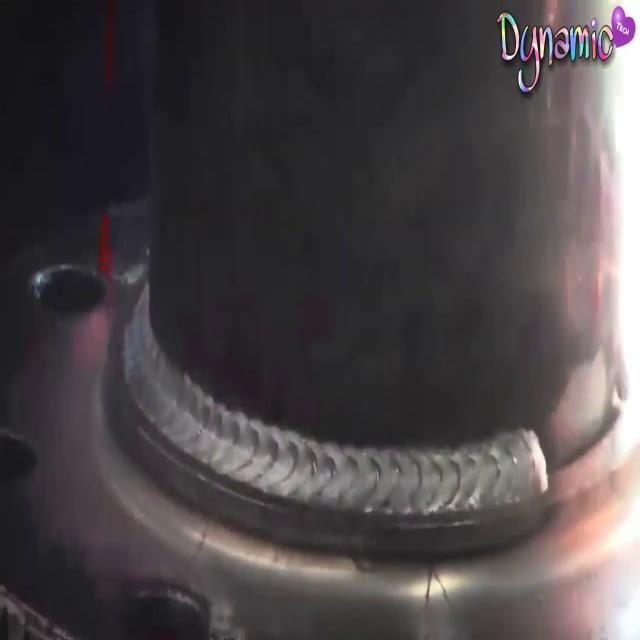Good Welding: (124, 287, 549, 556)
